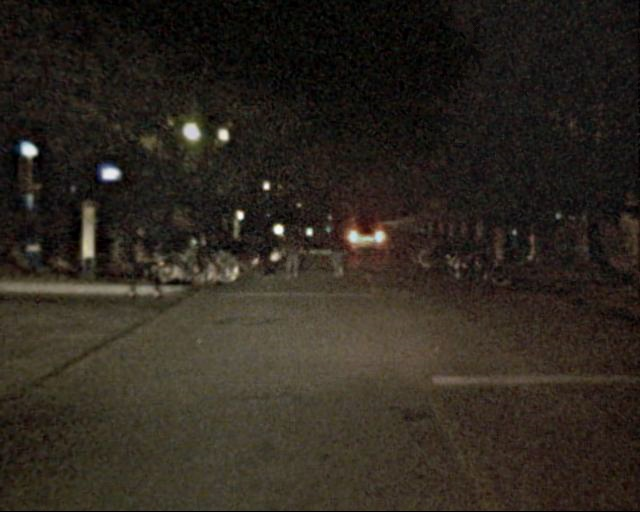person: (128, 218, 161, 298), (323, 220, 346, 286), (249, 218, 273, 279), (282, 226, 306, 286)
